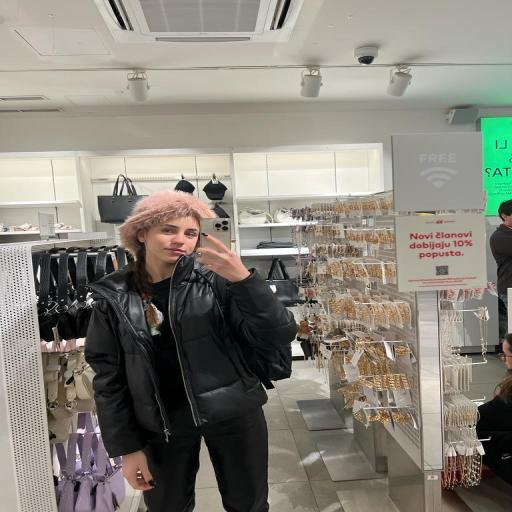masa: (141, 203, 202, 263)
